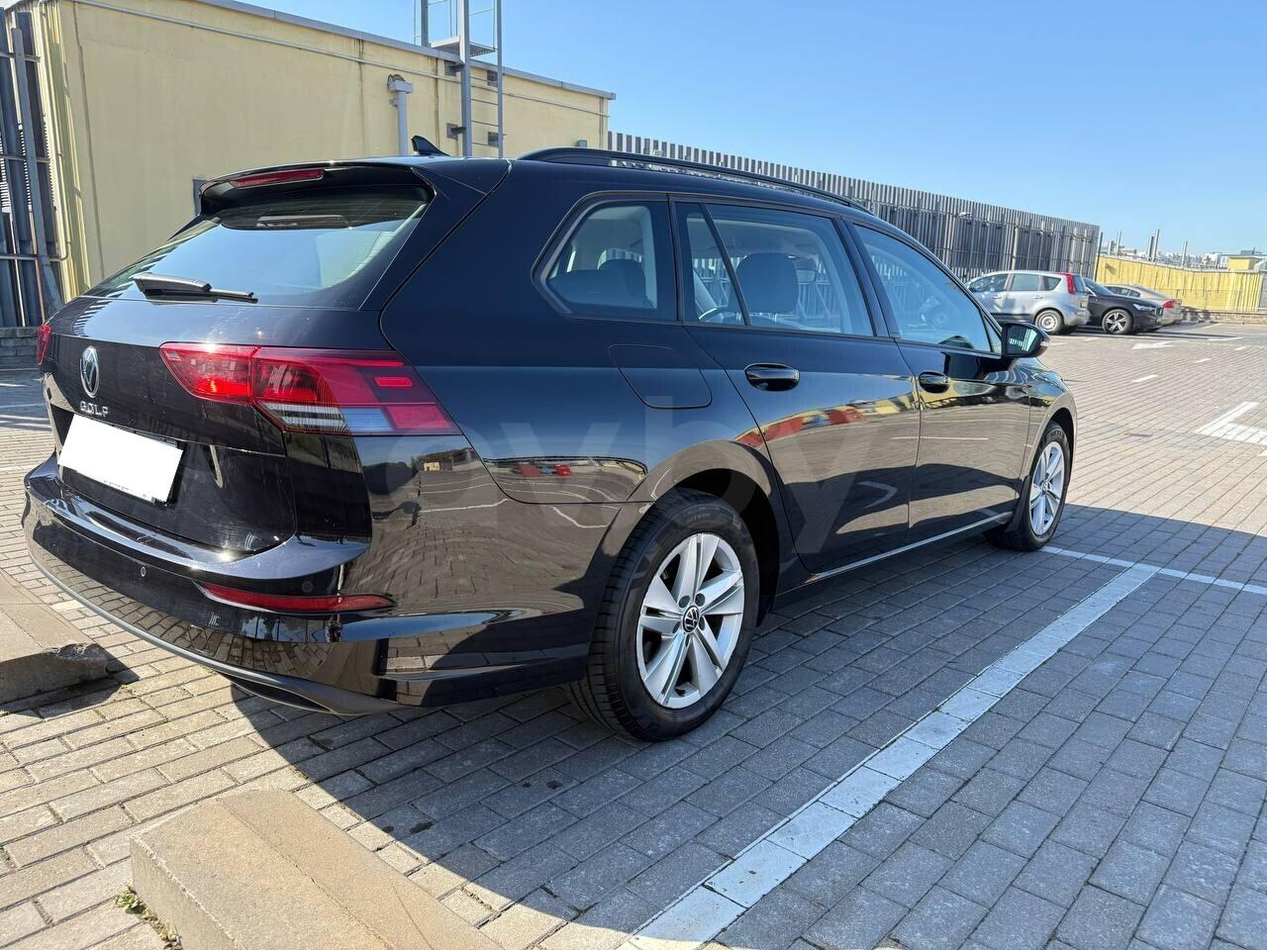Golf_2019: (13, 150, 1101, 739)
